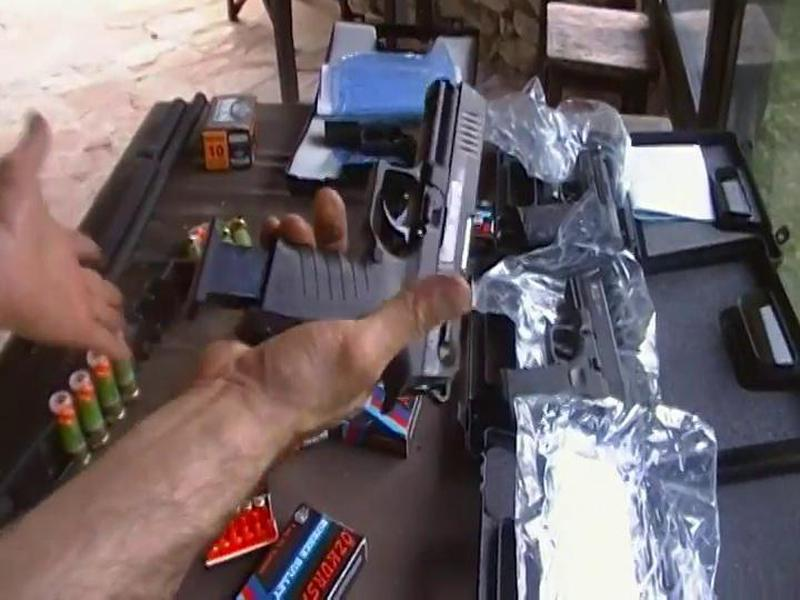Pistola: (231, 43, 504, 428)
